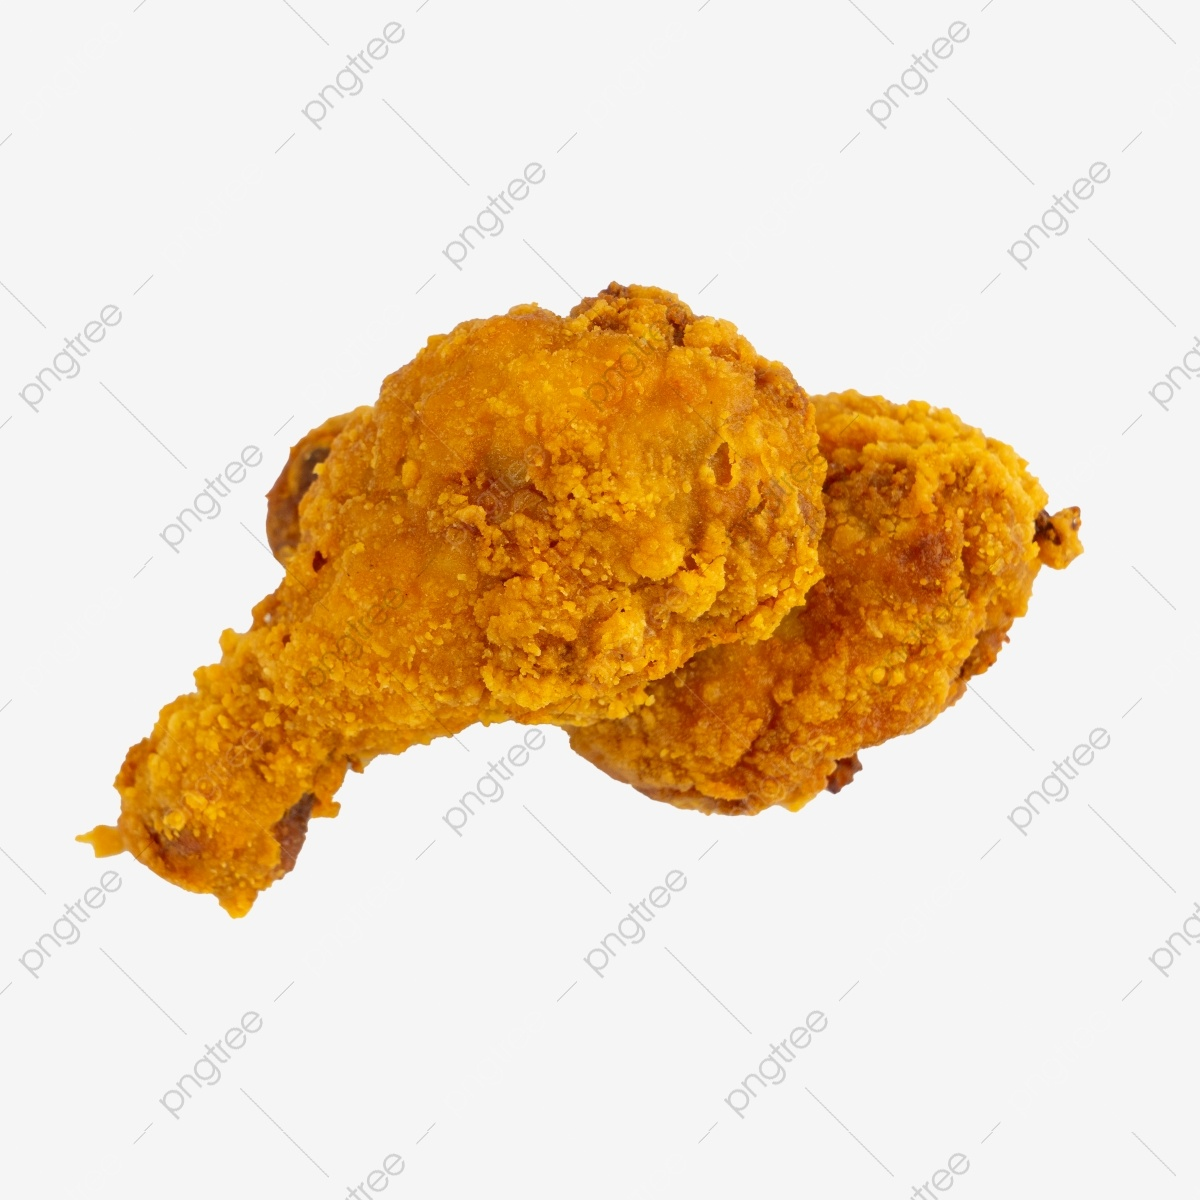ayam_goreng: (97, 262, 831, 905)
